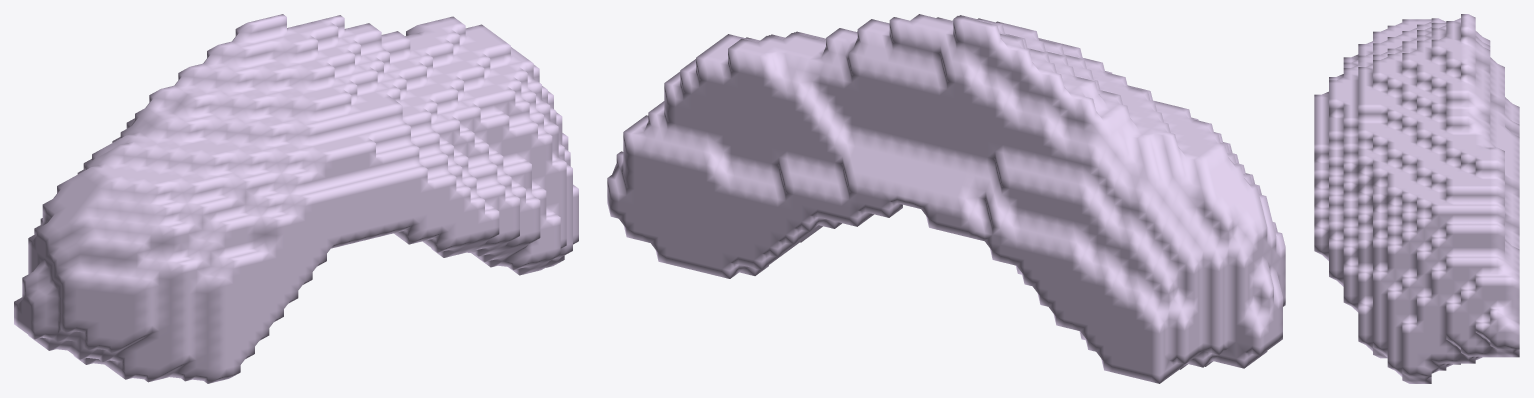
The model's file is region-5.glb.
The picture shows the model from 3 angles, left to right: view 1: azimuth 30°, elevation 25°; view 2: azimuth 150°, elevation 25°; view 3: azimuth 270°, elevation 25°; orthographic projection. The views are drawn at different scales.
Parts seen in each view (by area): view 1: digimouse-volume:5; view 2: digimouse-volume:5; view 3: digimouse-volume:5.
Part boxes in pixels (x1,y1,x2,y2): digimouse-volume:5: (14, 14, 578, 383); digimouse-volume:5: (607, 14, 1285, 383); digimouse-volume:5: (1314, 14, 1519, 383).
Size of the model in its own units: 0.0078 by 0.0038 by 0.0028.
